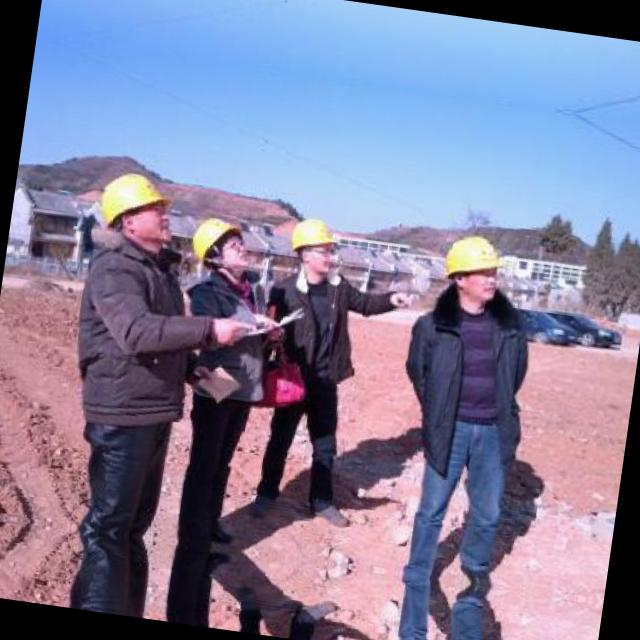helmet: (88, 161, 180, 253), (431, 224, 507, 308), (186, 210, 258, 278), (283, 209, 344, 277)
